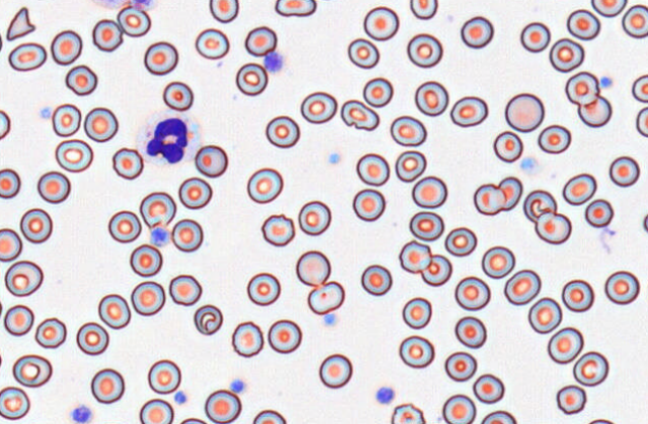GRAN: (135, 111, 198, 164)
PLT: (67, 404, 95, 424), (262, 51, 283, 73), (149, 227, 171, 247), (376, 385, 395, 403), (228, 377, 246, 394), (321, 314, 338, 328), (329, 150, 343, 166), (598, 76, 615, 89), (39, 106, 53, 120), (175, 392, 186, 404)
RBC: (504, 92, 544, 132), (4, 260, 43, 296), (139, 191, 176, 228), (503, 269, 541, 305), (547, 326, 583, 364), (12, 353, 52, 387), (246, 167, 283, 203), (54, 138, 93, 172), (295, 250, 331, 286), (572, 350, 608, 386), (406, 32, 442, 68), (307, 280, 344, 315), (83, 106, 118, 142), (454, 275, 490, 310), (363, 6, 399, 41), (534, 210, 571, 244), (204, 389, 241, 423), (549, 37, 584, 72), (130, 280, 165, 315), (528, 297, 562, 333), (90, 367, 124, 403), (604, 270, 640, 304), (414, 80, 448, 116), (450, 95, 488, 127), (340, 99, 379, 130), (564, 71, 599, 105), (522, 189, 557, 223), (143, 41, 178, 75), (147, 359, 181, 394), (318, 353, 352, 388), (267, 319, 302, 353), (297, 200, 331, 235), (398, 335, 434, 368), (411, 175, 447, 208), (19, 207, 52, 243), (231, 320, 263, 357), (300, 91, 337, 123), (398, 239, 432, 273), (481, 245, 515, 279), (246, 272, 280, 306), (577, 94, 612, 127), (265, 115, 300, 148), (50, 29, 82, 65), (98, 293, 130, 329), (170, 218, 203, 252), (562, 172, 596, 205), (261, 213, 295, 246), (129, 243, 162, 277), (107, 210, 141, 243), (178, 176, 212, 209), (194, 144, 228, 177), (36, 170, 70, 203), (235, 62, 268, 96), (76, 321, 109, 355), (356, 152, 389, 186), (116, 5, 151, 37), (194, 27, 229, 59), (390, 115, 426, 146), (8, 42, 46, 71), (561, 279, 594, 312), (460, 15, 493, 48), (352, 188, 385, 221), (566, 8, 600, 40), (409, 210, 444, 241), (420, 253, 452, 286), (91, 18, 123, 51), (454, 315, 486, 348), (168, 274, 202, 305), (473, 183, 505, 215), (65, 64, 97, 96), (111, 147, 143, 179), (394, 150, 426, 182), (360, 264, 392, 296), (608, 155, 640, 187), (401, 296, 432, 329), (244, 25, 277, 56), (0, 386, 30, 420), (537, 124, 571, 154), (441, 394, 476, 423), (492, 130, 523, 162), (472, 373, 504, 404), (3, 304, 34, 336), (34, 317, 66, 348), (347, 37, 379, 68), (444, 351, 477, 381), (444, 226, 477, 256), (51, 103, 81, 136), (162, 80, 193, 111), (362, 76, 393, 107), (520, 21, 550, 52), (193, 304, 223, 335), (621, 4, 648, 38), (556, 384, 586, 414), (497, 176, 522, 210), (139, 398, 173, 423), (584, 198, 613, 227), (0, 227, 22, 261), (390, 402, 425, 423), (208, 0, 238, 23), (274, 0, 316, 16), (0, 167, 20, 198), (591, 0, 627, 17), (409, 0, 437, 19), (252, 409, 286, 423), (480, 410, 516, 423), (631, 74, 647, 103), (635, 106, 648, 137), (0, 109, 10, 140), (585, 418, 617, 424), (178, 417, 207, 423), (99, 420, 130, 424), (643, 210, 648, 234), (645, 274, 648, 308), (0, 31, 3, 58), (0, 294, 3, 319), (314, 0, 342, 1)
Schistocyte: (6, 8, 37, 40)
